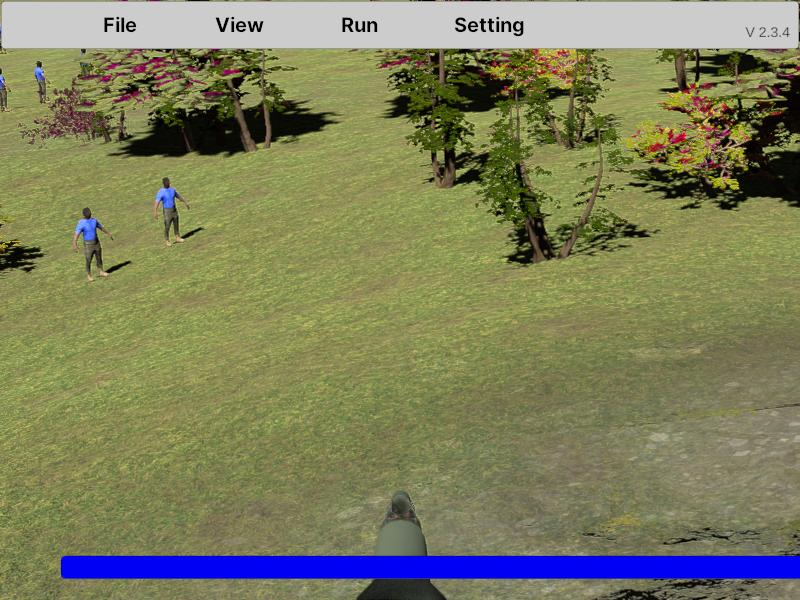Human: (73, 207, 114, 283), (73, 207, 114, 282), (155, 176, 190, 246), (0, 67, 12, 112)
